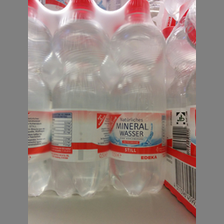water: (53, 1, 111, 197), (109, 1, 165, 199), (28, 1, 53, 198)
